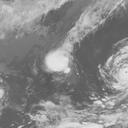cyclone: (98, 37, 127, 93), (44, 46, 74, 76)
